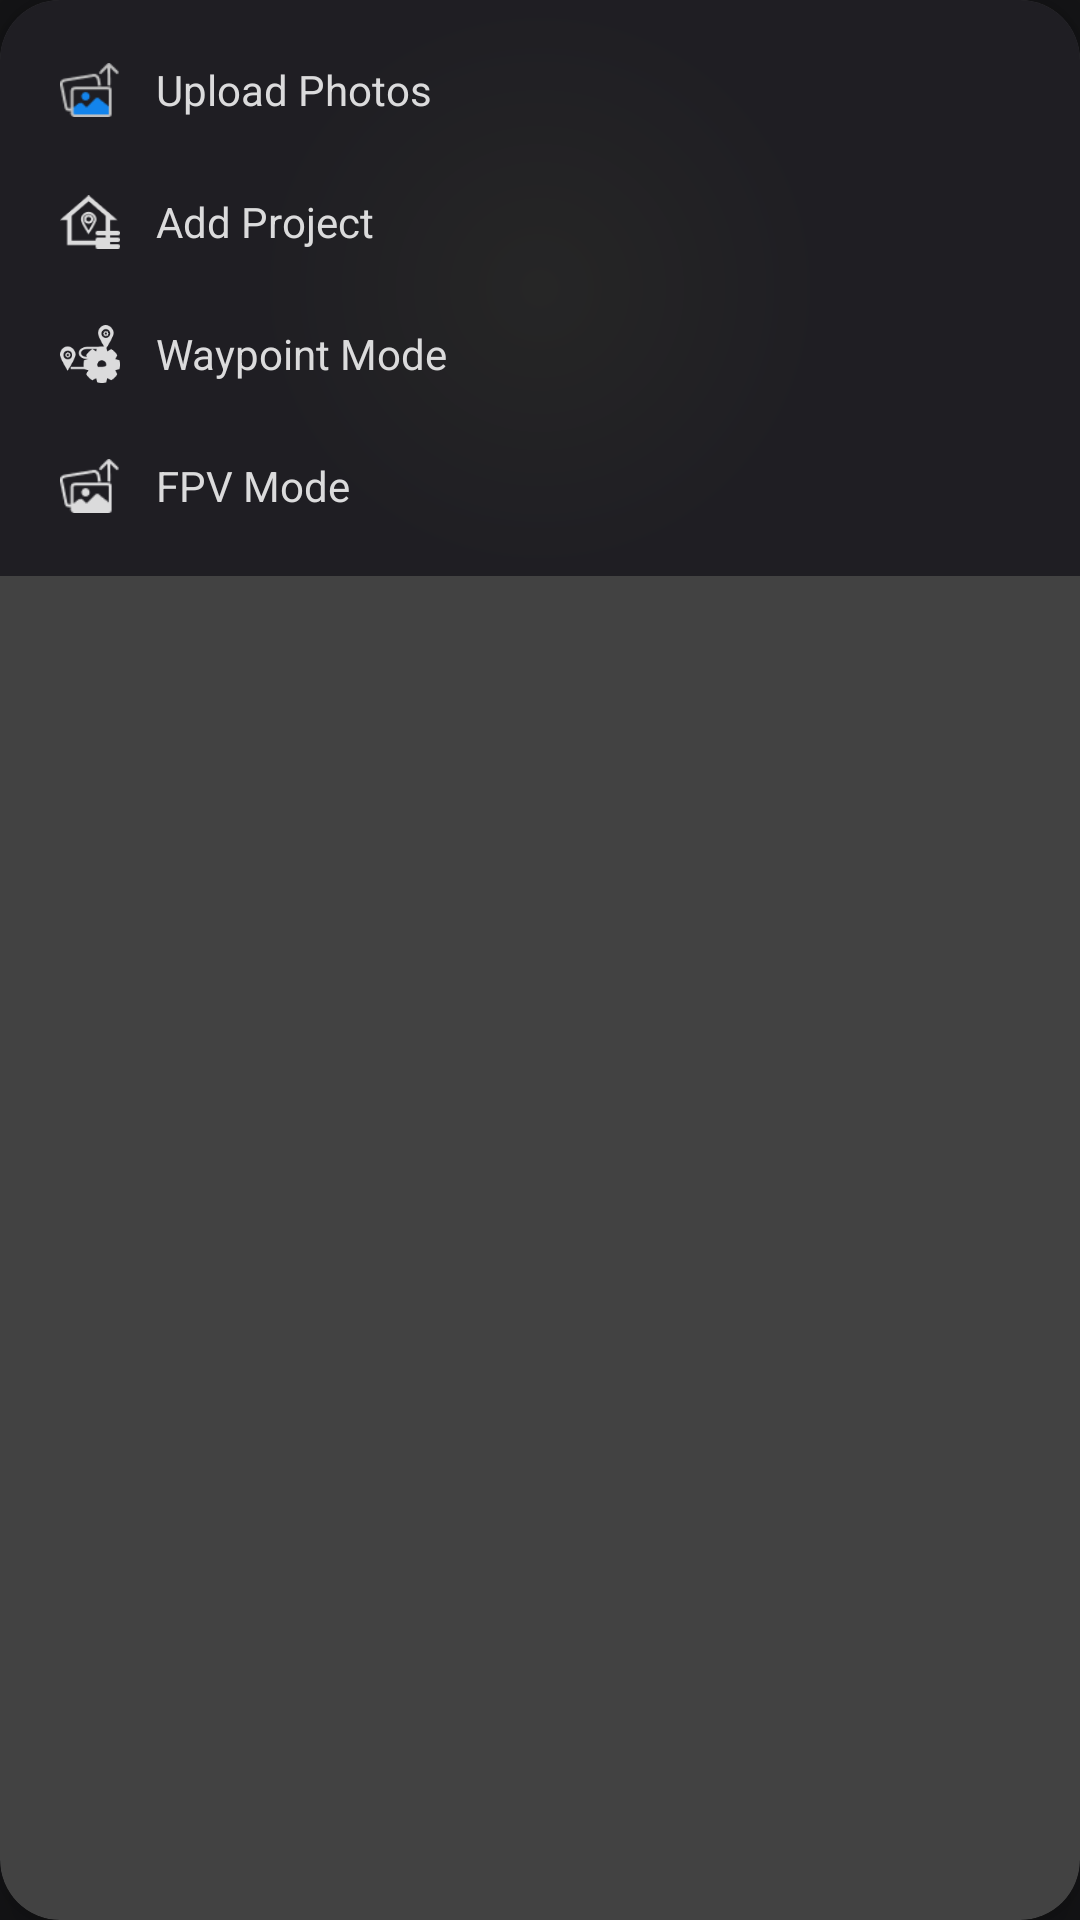

Screen size 1080*1920. Icon name, then its box in pixels as (left=x1, top=y1, right=x2, bottom=y2):
media: (left=60, top=63, right=119, bottom=117), (left=60, top=459, right=119, bottom=513)
mission setting: (left=60, top=325, right=120, bottom=383)
